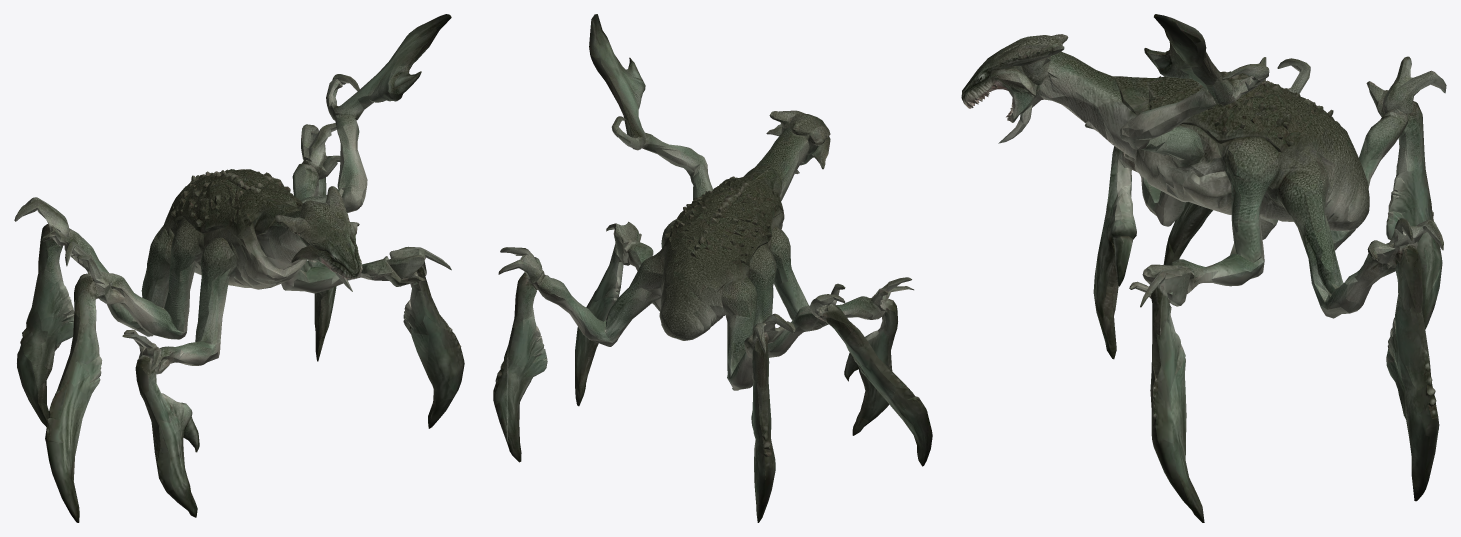
Rendered from acklay.glb.
3 views of the same model, side by side, from view 1: azimuth 30°, elevation 25°; view 2: azimuth 150°, elevation 25°; view 3: azimuth 270°, elevation 25° (orthographic). The views are drawn at different scales.
Visible parts, largest first — view 1: acklay-centred; view 2: acklay-centred; view 3: acklay-centred.
Boxes of the visible parts, x1,y1,x2,y2 form: acklay-centred: (14,14,464,522); acklay-centred: (493,14,932,522); acklay-centred: (961,14,1446,522).
Bounding box in the file's own units: 6 × 6.06 × 5.23.
1 material, 1 textured.
